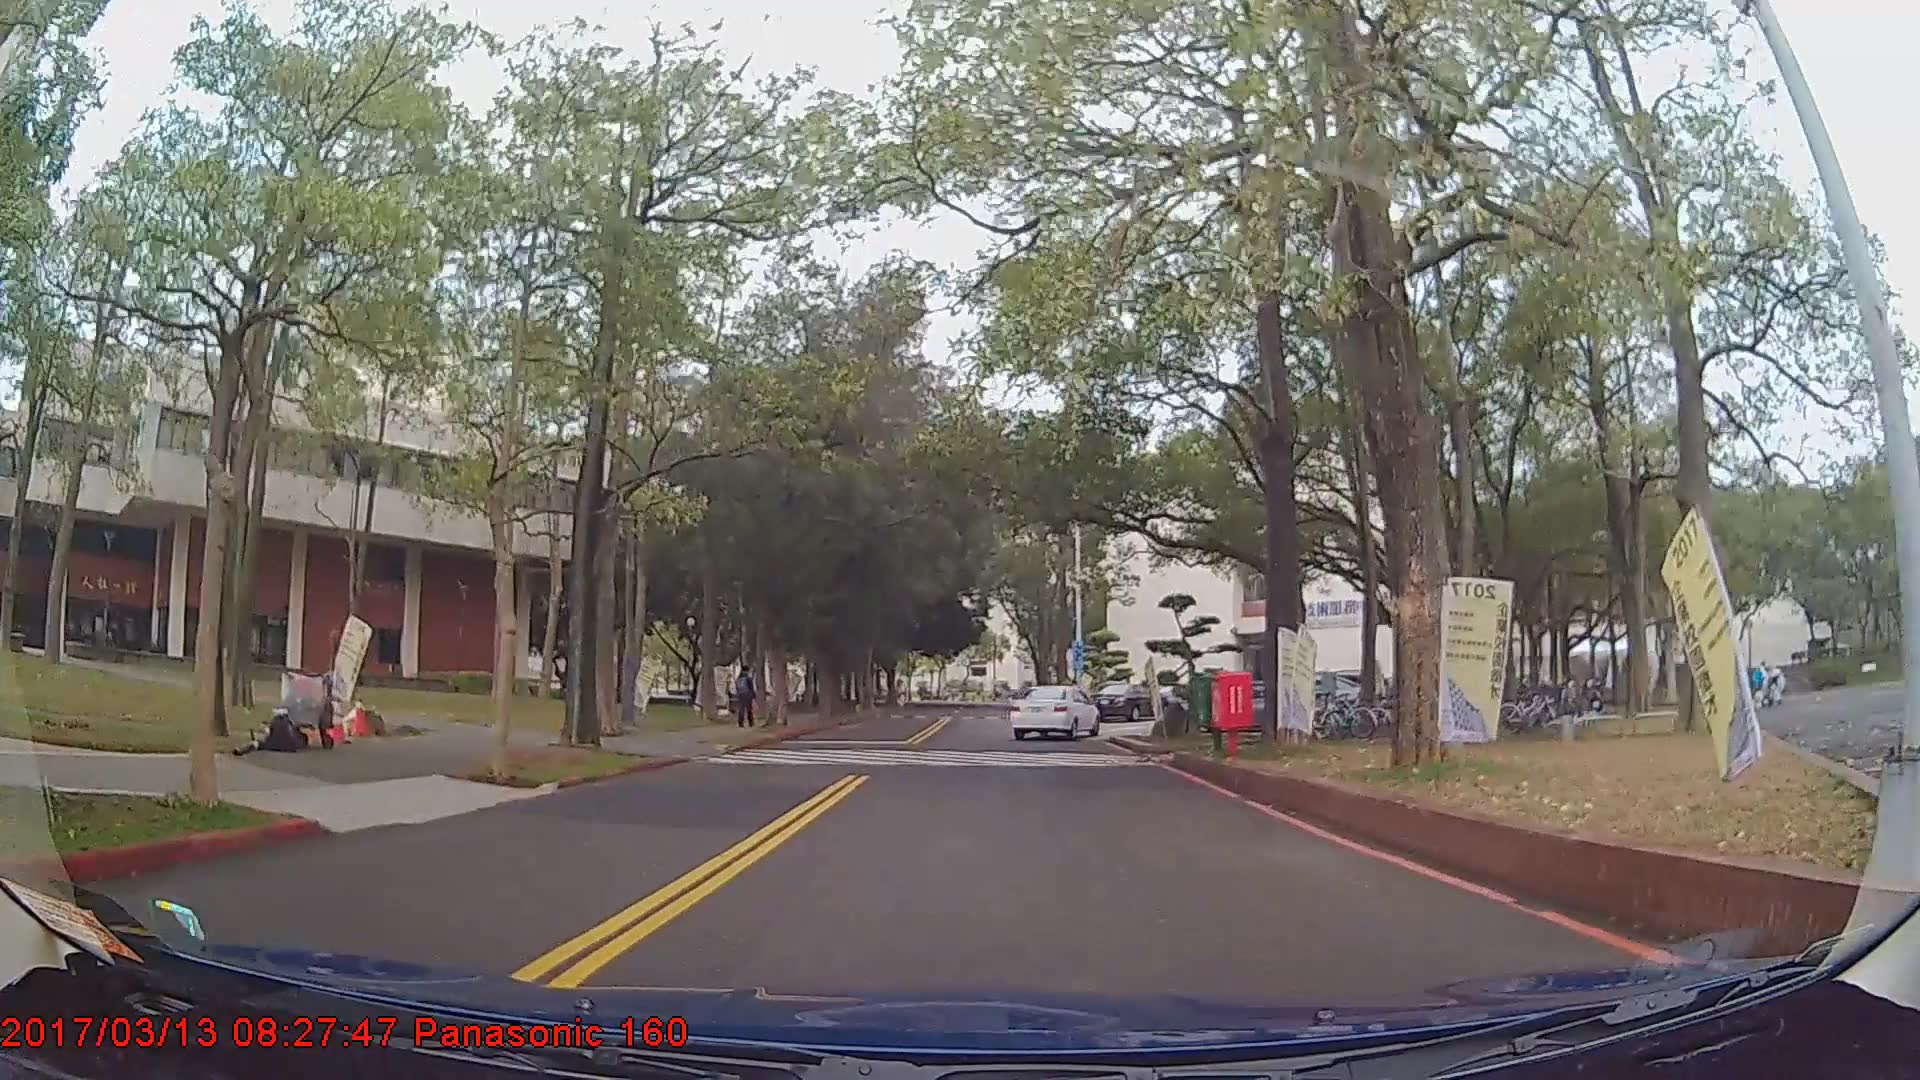pedestrian: (735, 667, 759, 730)
vehicle: (1009, 681, 1099, 741), (1091, 679, 1170, 720)
